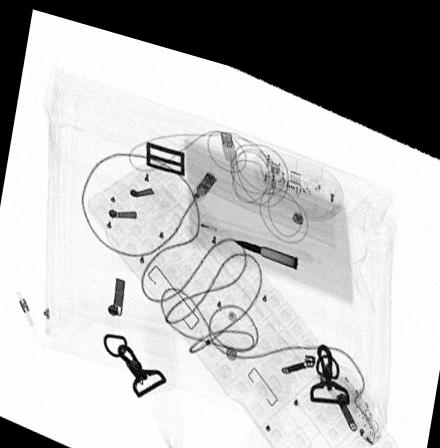Bullet: (232, 226, 299, 252)
